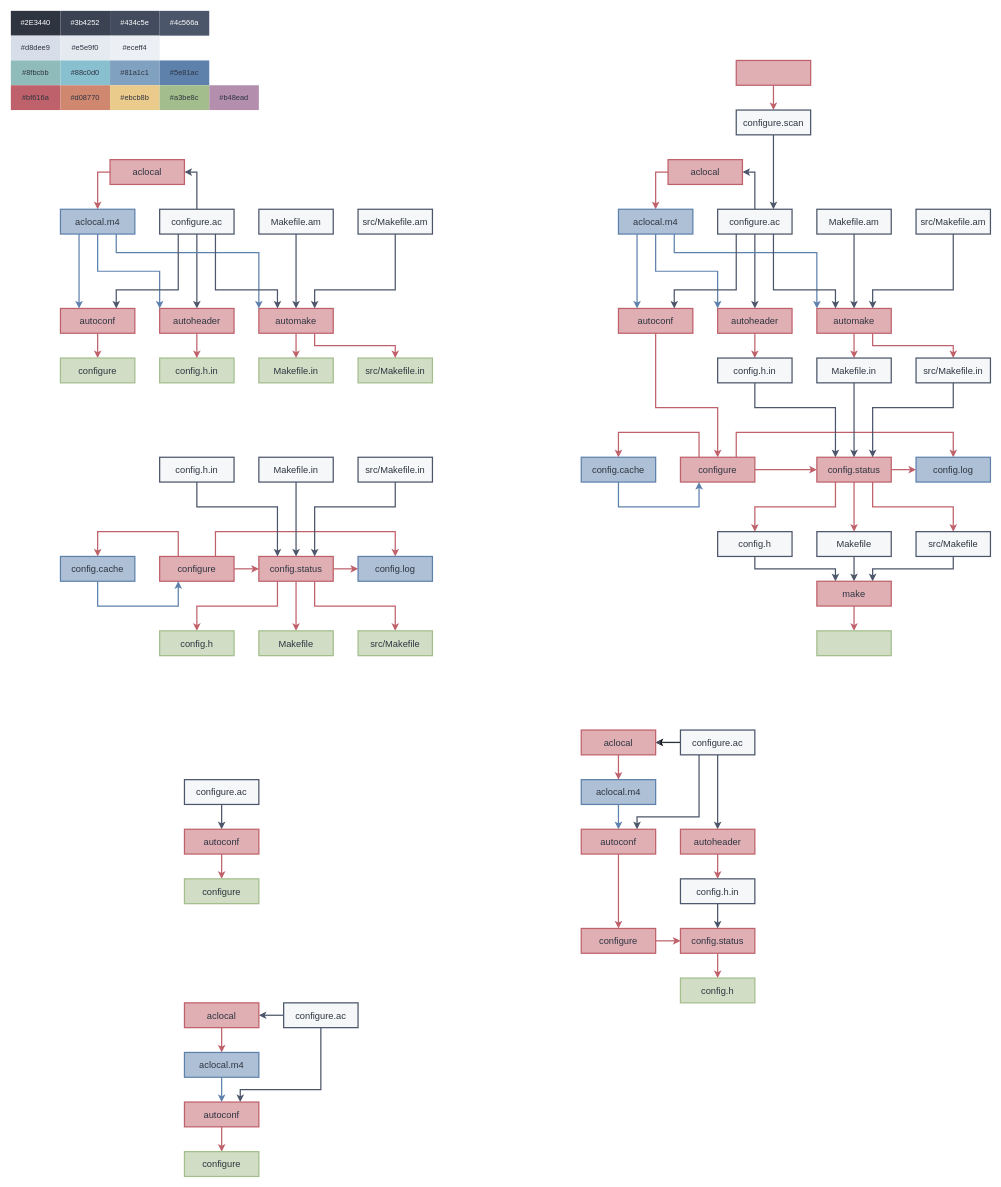
The diagram is 1001 pixels wide and 1187 high, and some of its shapes have lost their labels. Each missing label, with the box of its shape:
autoscan: (735, 60, 811, 86)
executable: (816, 630, 892, 656)
